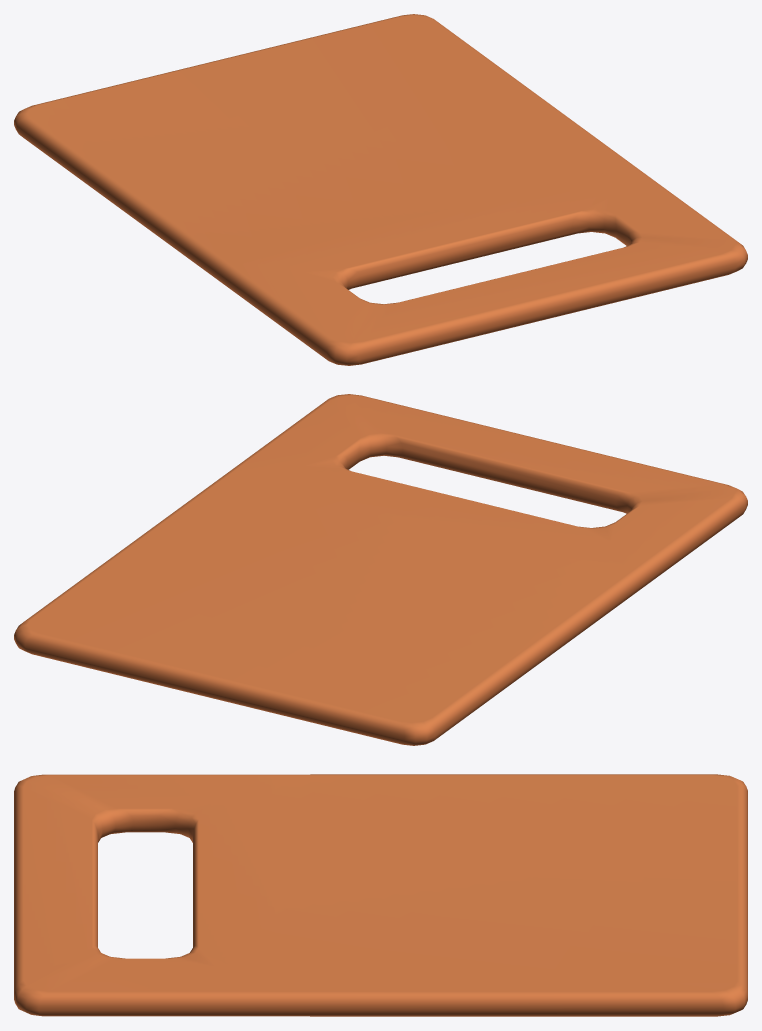
The model's file is ChoppingBoard.fbx.
3 renders of one model, top to bottom at view 1: azimuth 30°, elevation 25°; view 2: azimuth 150°, elevation 25°; view 3: azimuth 270°, elevation 25°, orthographic. The views are drawn at different scales.
Parts seen in each view (by area): view 1: Cube.024; view 2: Cube.024; view 3: Cube.024.
Boxes of the visible parts, box(x1,y1,x2,y2) form: Cube.024: box(14, 14, 747, 365); Cube.024: box(14, 394, 747, 745); Cube.024: box(14, 774, 747, 1016).
Size of the model in its own units: 7.36 by 0.3634 by 10.13.
